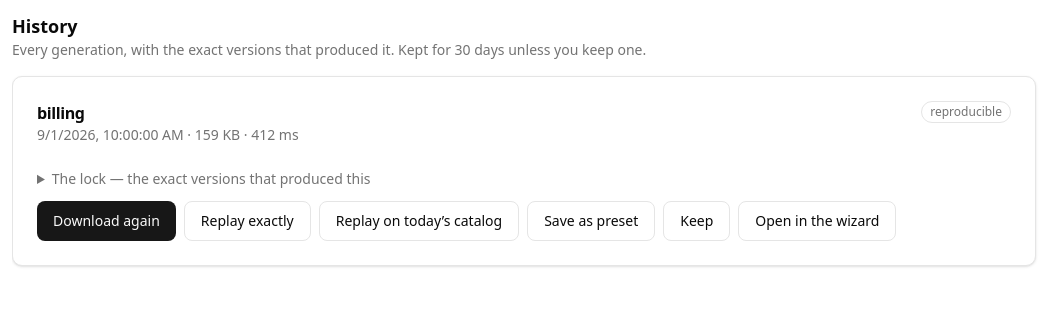
Test: HistoryPage › asks for the mode the button names, and reports which one ran
Click the button "Replay exactly" at (247, 221), box [184,201,311,241]
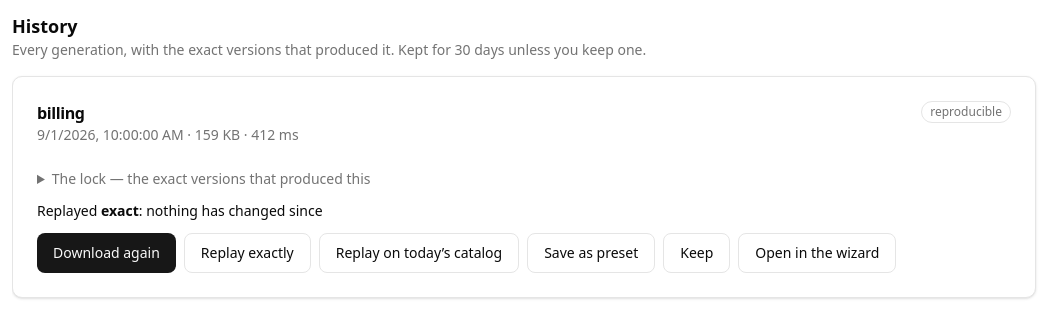
Now the message shows "Replayed exact", box [37,201,323,220]
